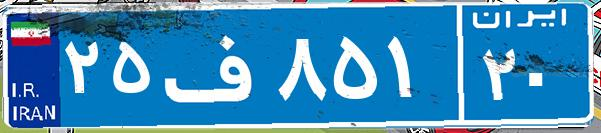0: (525, 38, 570, 115)
1: (385, 28, 445, 110)
2: (57, 26, 110, 107), (475, 38, 525, 113)
5: (330, 28, 385, 110), (110, 28, 158, 105)
8: (273, 28, 330, 110)
ف: (158, 15, 273, 115)
